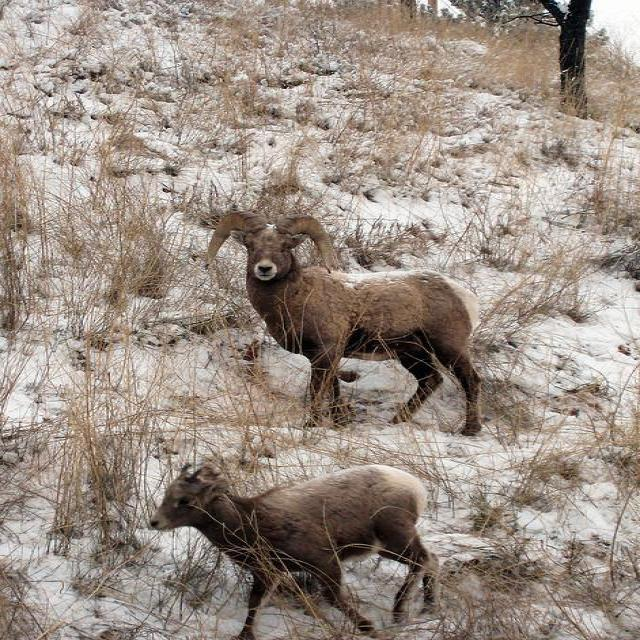Sheep: (200, 210, 485, 436), (152, 465, 439, 639)
